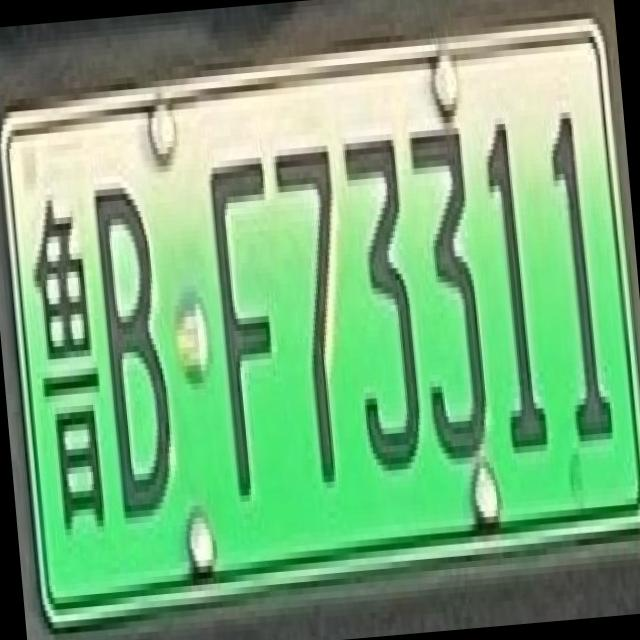1: (461, 79, 556, 461), (520, 80, 618, 450)
3: (391, 91, 492, 473), (328, 96, 428, 478)
7: (262, 113, 362, 490)
B: (80, 160, 187, 525)
F: (198, 138, 294, 496)
